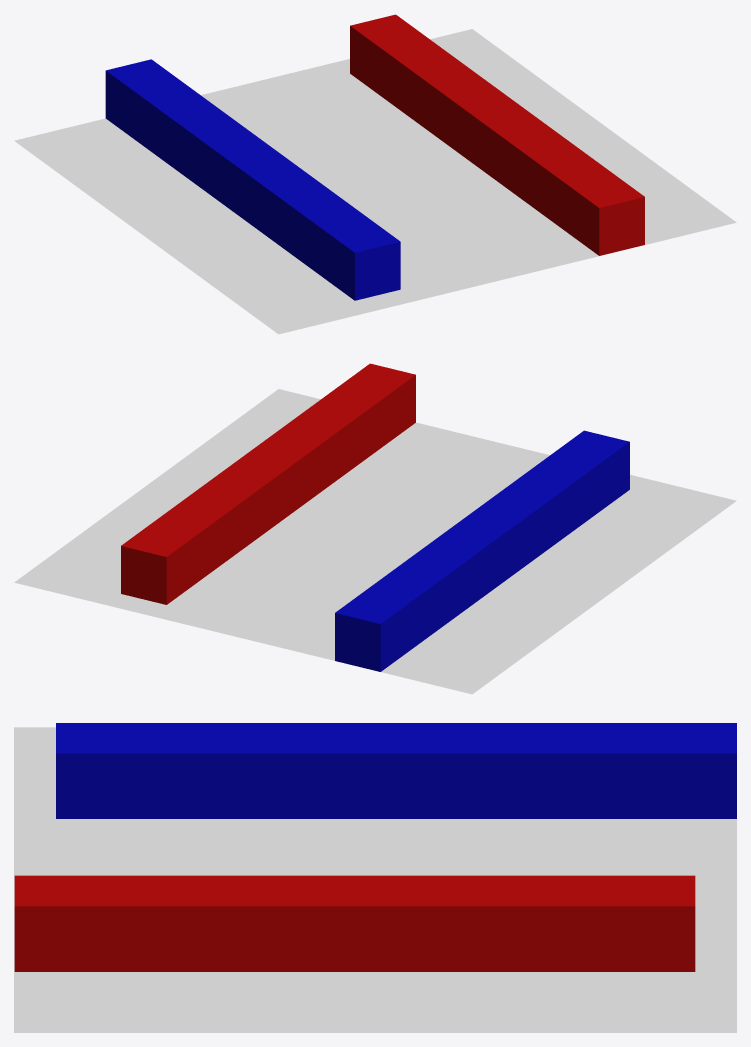
File: Level5.fbx
The picture shows the model from 3 angles, top to bottom: view 1: azimuth 30°, elevation 25°; view 2: azimuth 150°, elevation 25°; view 3: azimuth 270°, elevation 25°; orthographic projection. The views are drawn at different scales.
Parts seen in each view (by area): view 1: Plane, Cube, Cube.001; view 2: Plane, Cube, Cube.001; view 3: Plane, Cube.001, Cube.
Boxes of the visible parts, <box> form: Plane: <box>14,29,736,334</box>; Cube: <box>105,59,400,300</box>; Cube.001: <box>350,14,644,255</box>; Plane: <box>14,389,736,694</box>; Cube: <box>335,430,629,671</box>; Cube.001: <box>121,363,415,604</box>; Plane: <box>14,727,736,1032</box>; Cube.001: <box>14,875,695,971</box>; Cube: <box>56,723,736,818</box>.
Size of the model in its own units: 2000 by 200 by 2000.
